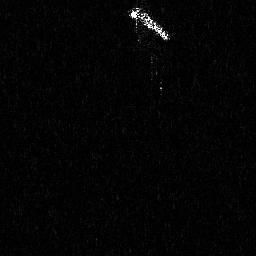ship: (125, 5, 173, 44)
